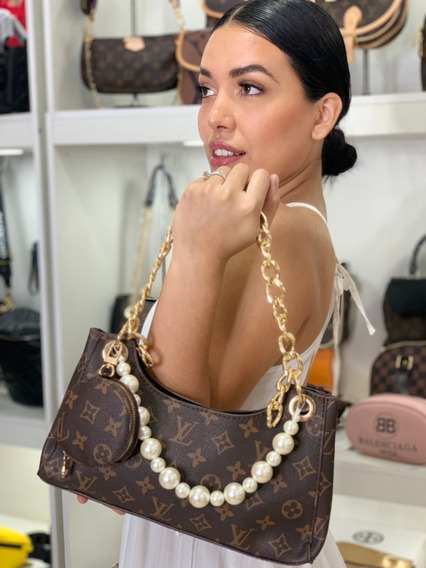cartera: (35, 202, 354, 566)
